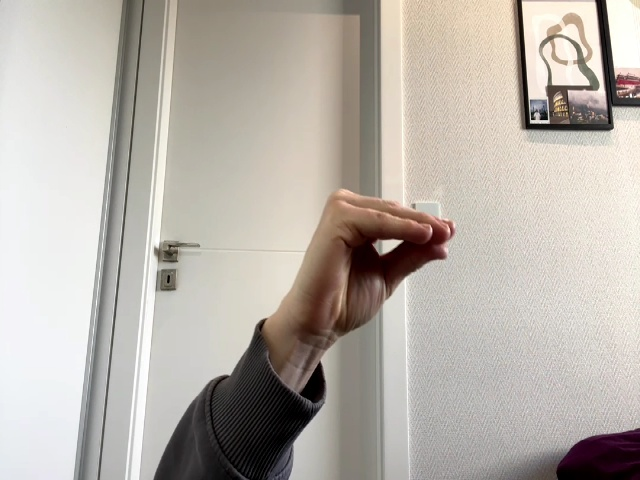E: (281, 188, 455, 359)
